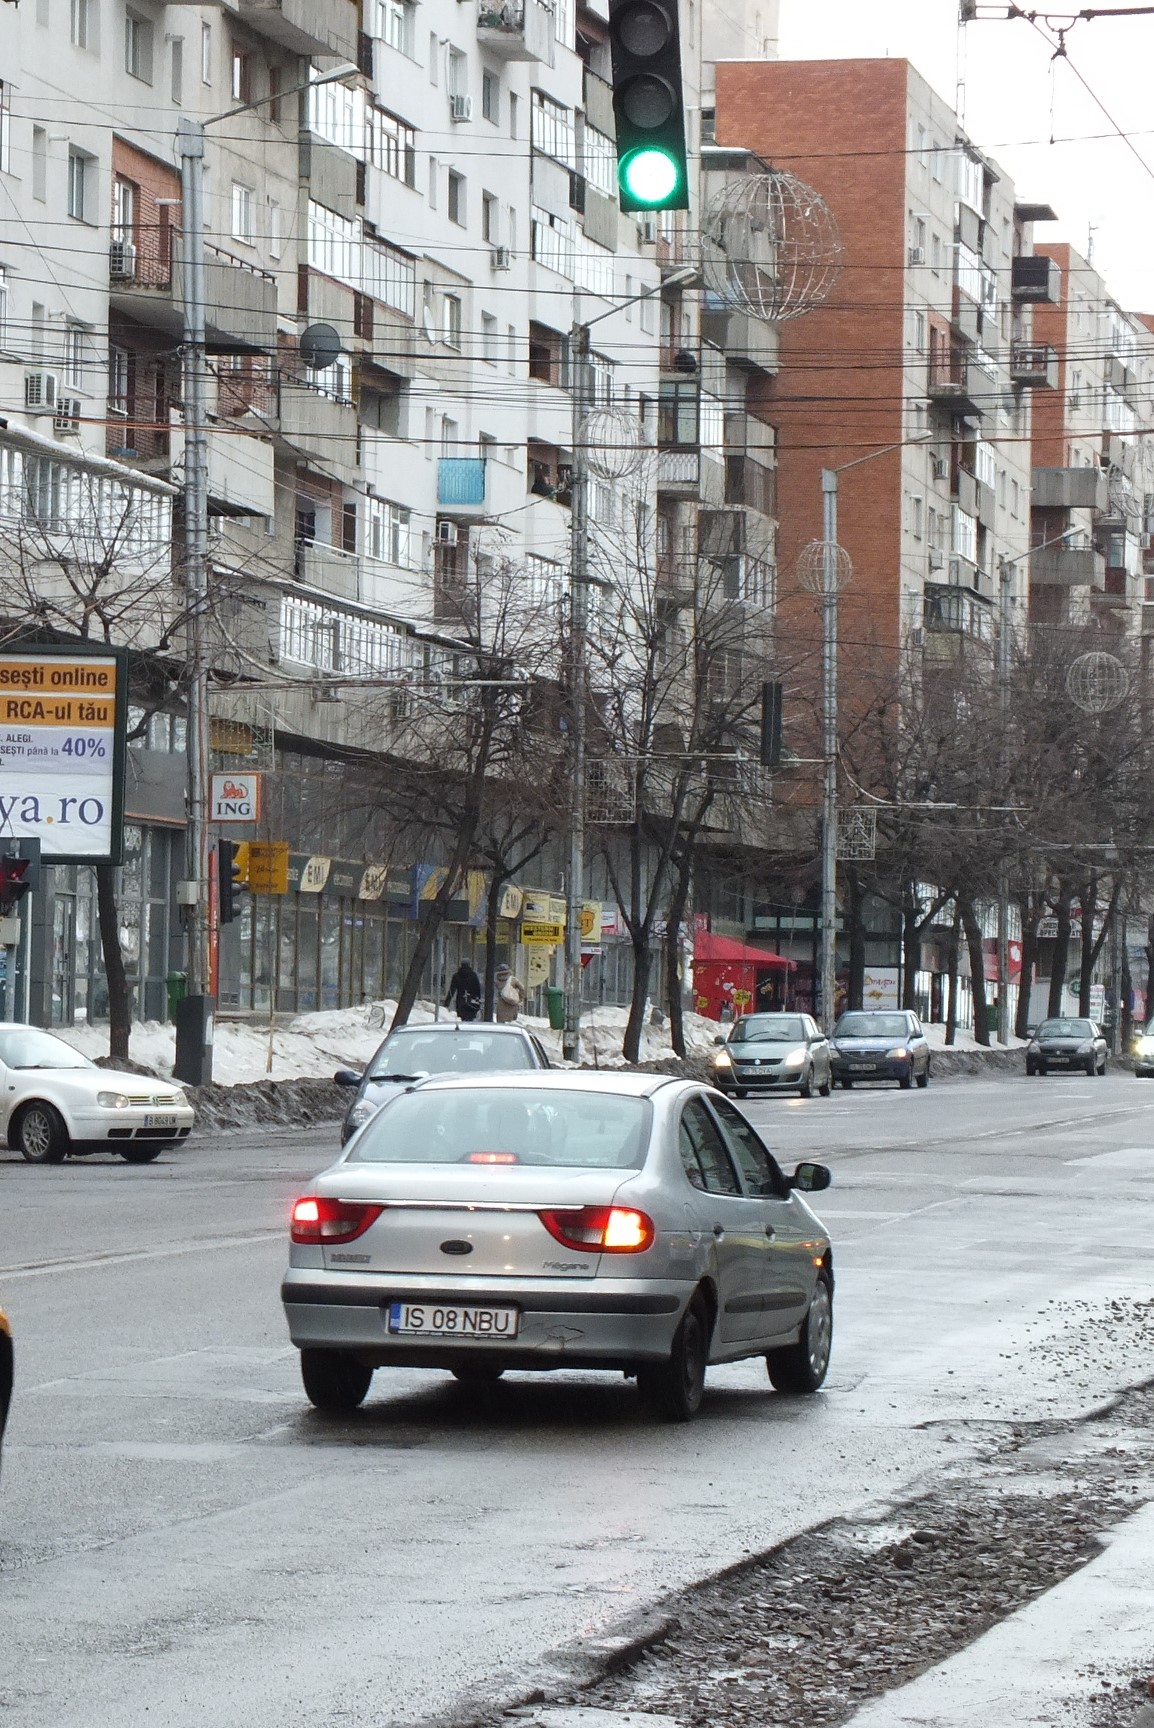IS08NBU: (389, 1303, 522, 1339)
